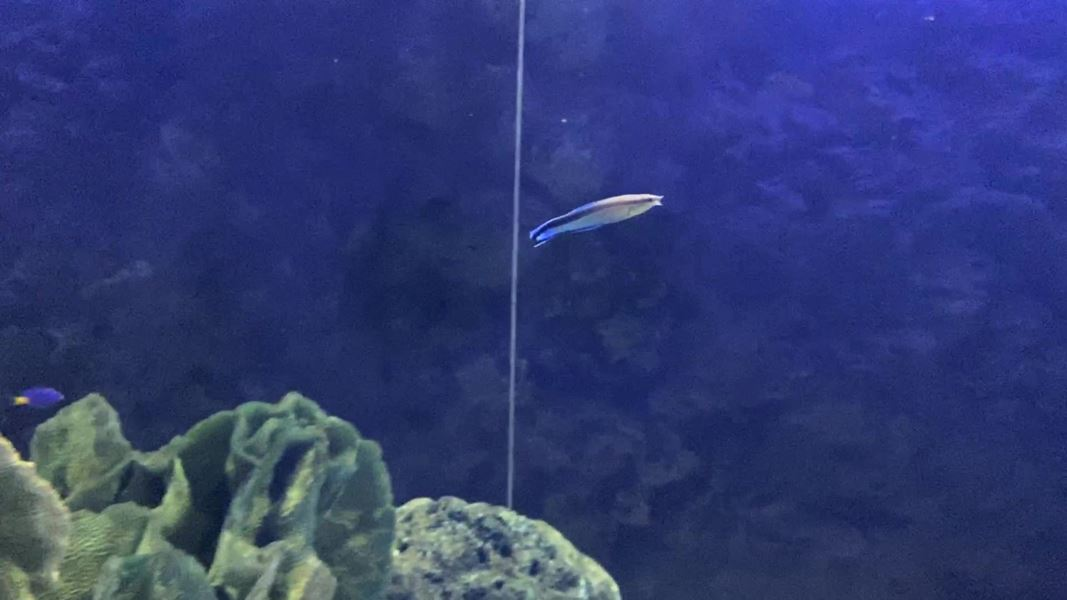Bluesteak cleaner wrasse: (518, 181, 671, 253)
